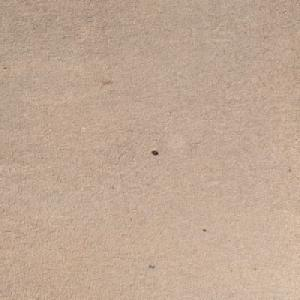Nut: (150, 149, 157, 154)
